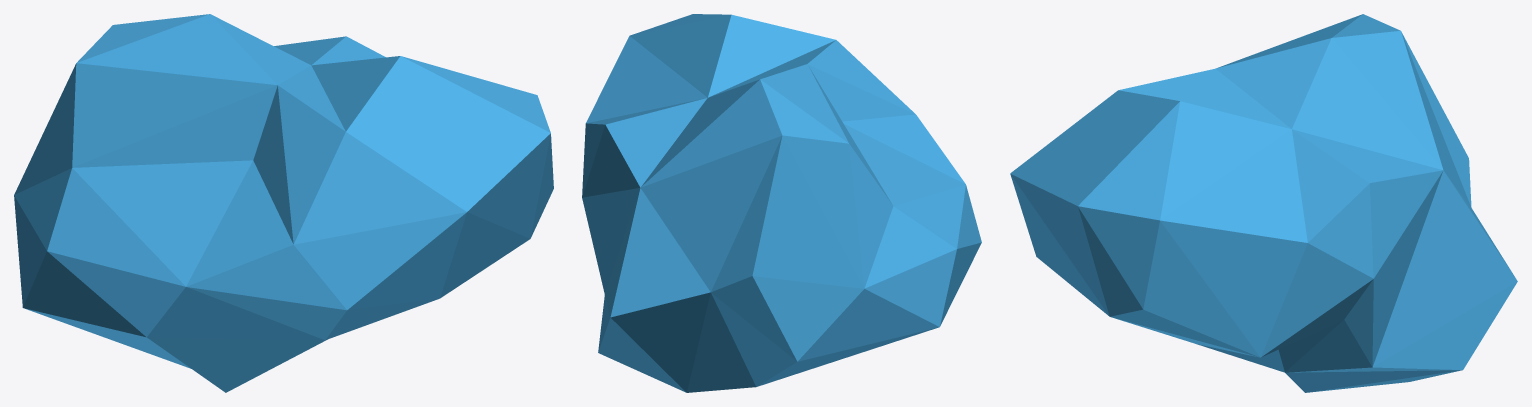
Rendered from cloud 3.fbx.
The picture shows the model from 3 angles, left to right: view 1: azimuth 30°, elevation 25°; view 2: azimuth 150°, elevation 25°; view 3: azimuth 270°, elevation 25°; orthographic projection. The views are drawn at different scales.
Parts seen in each view (by area): view 1: Sphere.056; view 2: Sphere.056; view 3: Sphere.056.
Part boxes in pixels (x1,y1,x2,y2): Sphere.056: (14, 14, 553, 392); Sphere.056: (582, 14, 981, 392); Sphere.056: (1010, 14, 1517, 392).
Size of the model in its own units: 8185 by 6043 by 8486.
